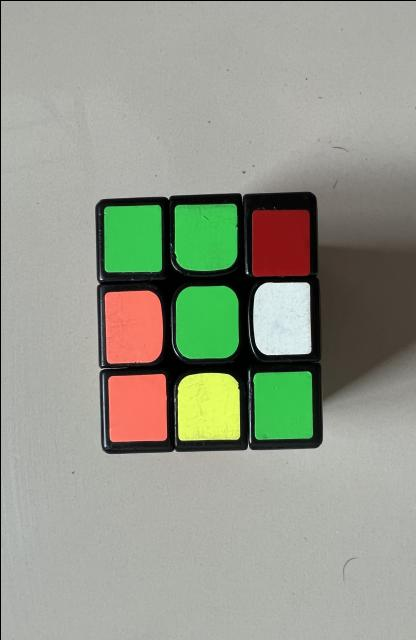Green: (174, 285, 238, 358), (173, 202, 236, 270), (252, 370, 312, 439), (103, 204, 161, 271)
Orange: (104, 290, 162, 362), (107, 372, 166, 441)
Red: (251, 209, 310, 275)
White: (252, 281, 311, 354)
Yellow: (177, 371, 239, 440)
